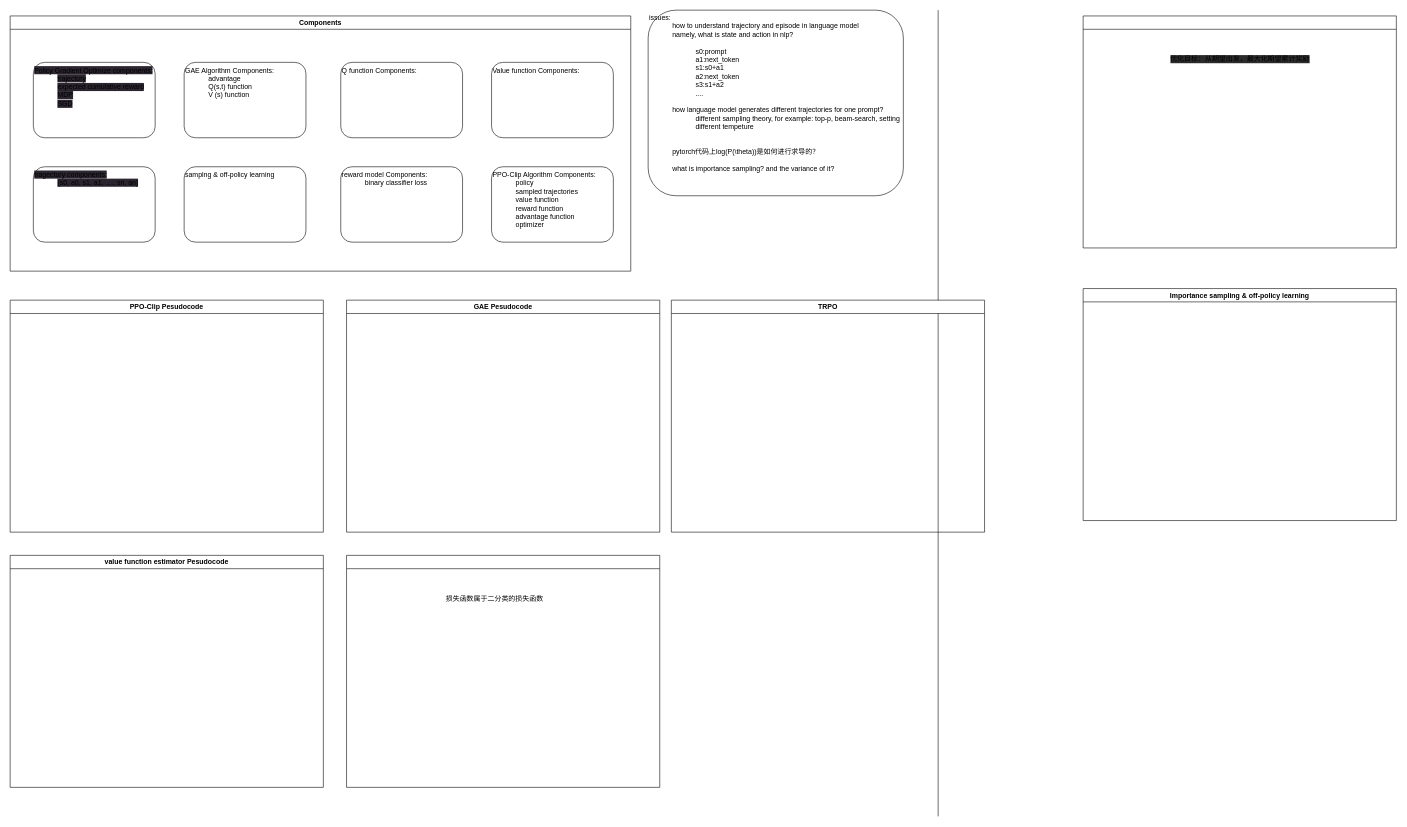
Some shapes in this 1407 by 827 pixel diagram are drawn without their labels. The shapes that lost their labels are listed below. From the top down, each one's box as (x1, y1, x2, y2) in pixels, then its label:
(1083, 15, 1396, 248): Gradient Policy Optimization
(346, 555, 660, 787): reward function estimator Pesudocode
